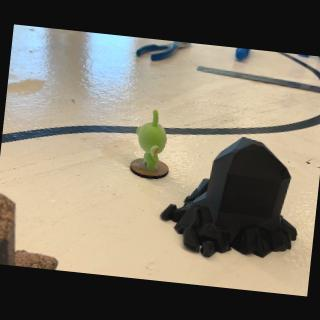teletubby: (136, 109, 166, 169)
